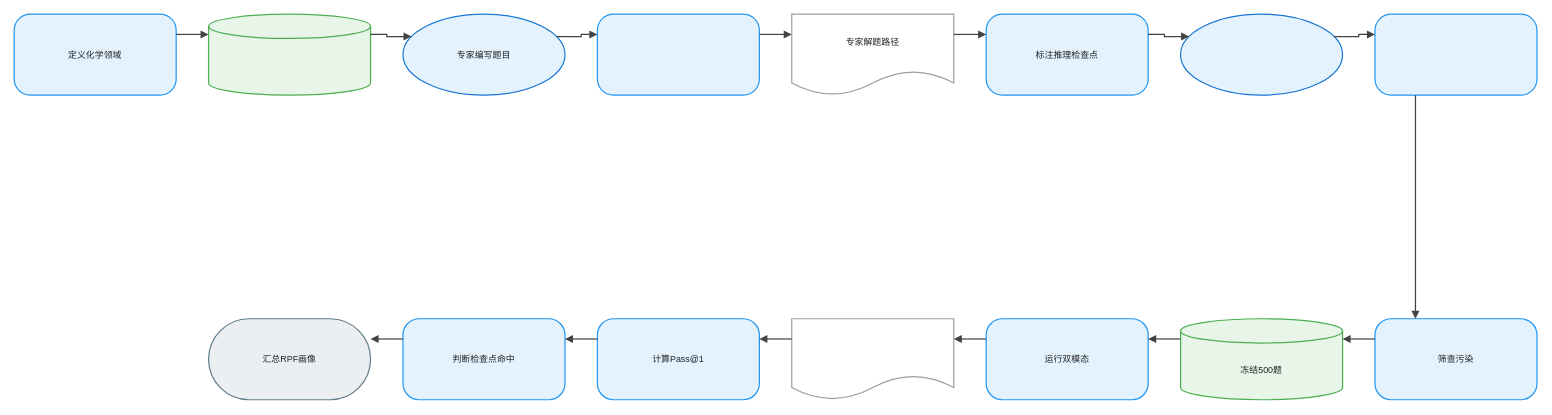
Some shapes in this 1552 by 415 pixel diagram are drawn without their labels. Here are the shapes that lost their labels. From the top down, the box of each, then its label:
(208, 13, 371, 95): 汇集题目来源
(596, 13, 760, 95): 配对双格式
(1180, 13, 1343, 95): 三阶段审核
(1374, 13, 1537, 95): AI辅助校验
(791, 318, 954, 400): 抽取最终答案
